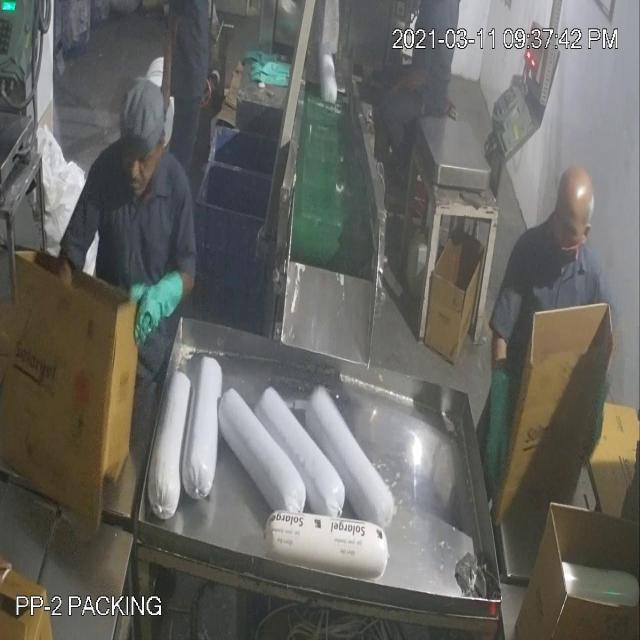No_Gloves: (20, 58, 502, 435)
